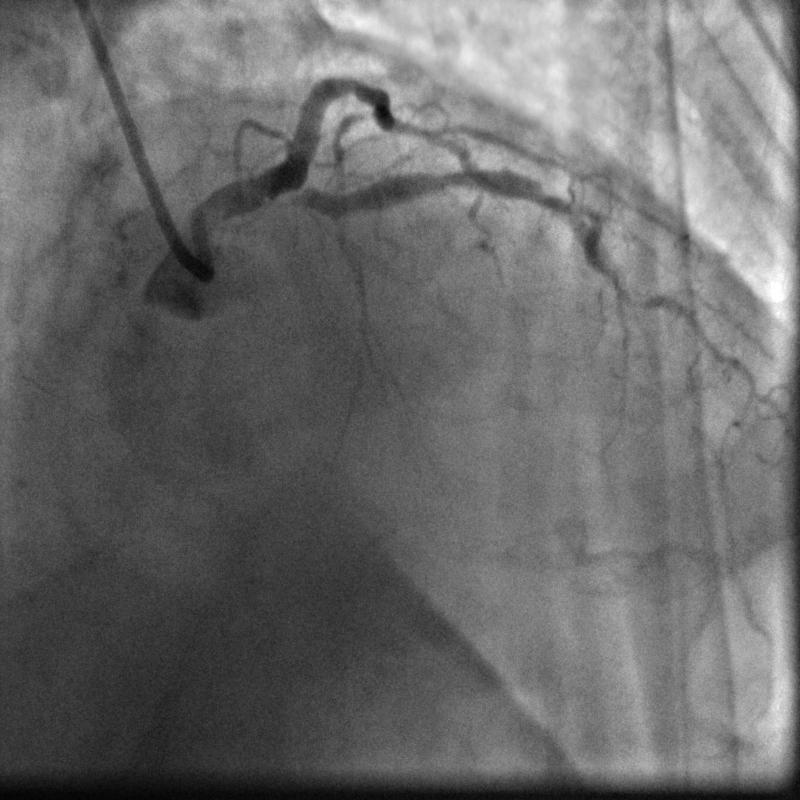Stenosis: (285, 176, 317, 217)
